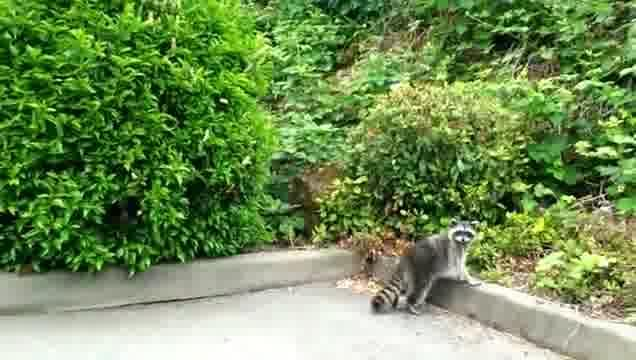raccoon: (371, 217, 486, 320)
